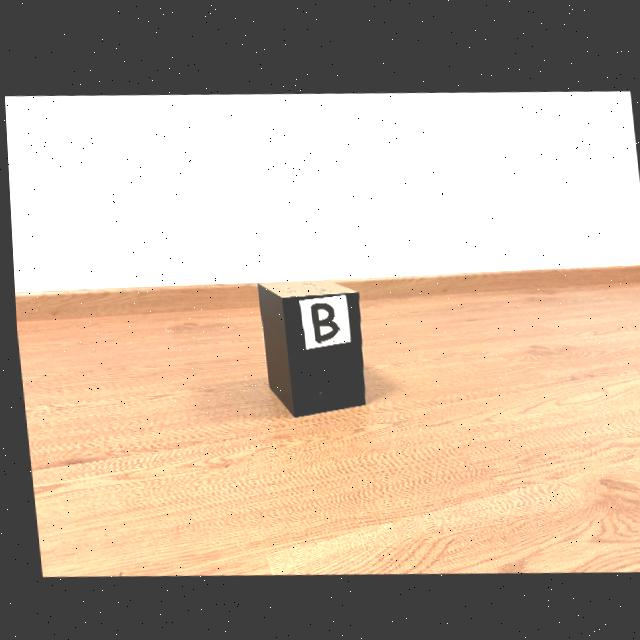B: (308, 301, 336, 340)
